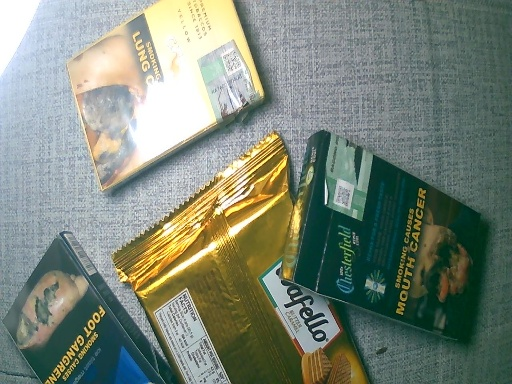cardboard: (283, 132, 490, 349), (67, 2, 266, 188), (1, 229, 184, 384)
plastic: (110, 134, 372, 384)
